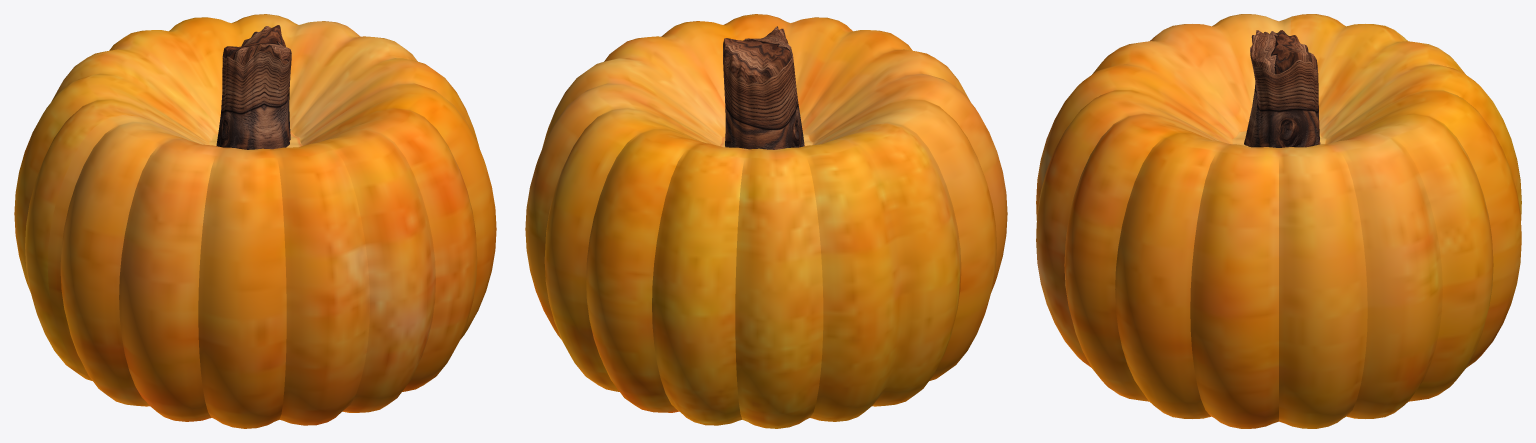
Rendered from pumpkin.fbx.
3 views of the same model, side by side, from view 1: azimuth 30°, elevation 25°; view 2: azimuth 150°, elevation 25°; view 3: azimuth 270°, elevation 25° (orthographic).
Parts seen in each view (by area): view 1: Sphere, Cylinder; view 2: Sphere, Cylinder; view 3: Sphere, Cylinder.
Part boxes in pixels (x1,y1,x2,y2): Sphere: (14,14,496,428); Cylinder: (216,25,291,149); Sphere: (525,14,1007,428); Cylinder: (723,26,804,149); Sphere: (1036,14,1521,428); Cylinder: (1244,30,1320,147).
Bounding box in the file's own units: 203 × 152 × 207.
